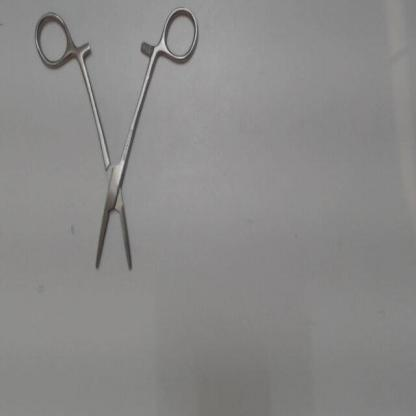Mayo Needle Holder: (28, 3, 204, 282)
